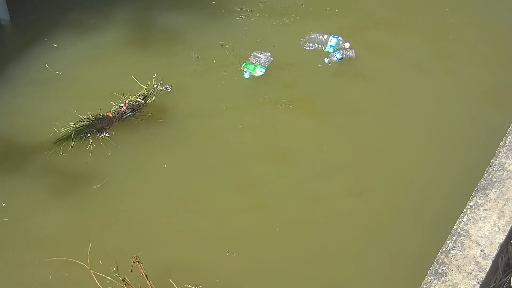plastic: (296, 34, 358, 56), (235, 48, 285, 75), (318, 47, 356, 64)
twig: (33, 72, 181, 167), (56, 239, 221, 288)
